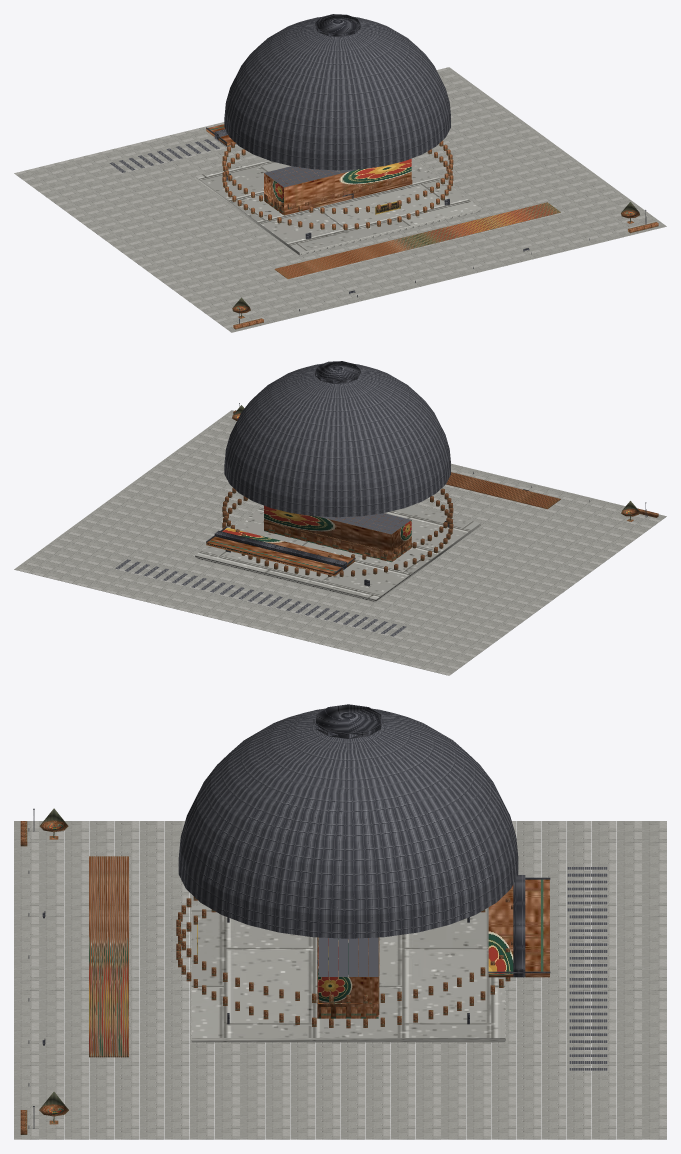
The picture shows the model from 3 angles, top to bottom: view 1: azimuth 30°, elevation 25°; view 2: azimuth 150°, elevation 25°; view 3: azimuth 270°, elevation 25°; orthographic projection. The views are drawn at different scales.
Visible parts, largest first — view 1: 11710_01_05540_013_01__plinth_ground_base, 11710_01_05540_013_03__roof_deck_structure, 11710_01_05540_013_02__mass_body_facade, 11710_01_05540_013_05__window_sash_glass, 11710_01_05540_013_03__roof_metal_ornament, 11710_01_05540_013_06__landscape_greenery; view 2: 11710_01_05540_013_01__plinth_ground_base, 11710_01_05540_013_03__roof_deck_structure, 11710_01_05540_013_02__mass_body_facade, 11710_01_05540_013_03__roof_metal_ornament, 11710_01_05540_013_05__window_sash_glass; view 3: 11710_01_05540_013_01__plinth_ground_base, 11710_01_05540_013_03__roof_deck_structure, 11710_01_05540_013_02__mass_body_facade, 11710_01_05540_013_03__roof_metal_ornament, 11710_01_05540_013_05__window_sash_glass, 11710_01_05540_013_06__landscape_greenery.
Boxes of the visible parts, x1=… form: 11710_01_05540_013_01__plinth_ground_base: x1=14, y1=67, x2=666, y2=332; 11710_01_05540_013_03__roof_deck_structure: x1=109, y1=16, x2=450, y2=187; 11710_01_05540_013_02__mass_body_facade: x1=206, y1=124, x2=560, y2=278; 11710_01_05540_013_05__window_sash_glass: x1=222, y1=140, x2=453, y2=230; 11710_01_05540_013_03__roof_metal_ornament: x1=206, y1=14, x2=360, y2=143; 11710_01_05540_013_06__landscape_greenery: x1=232, y1=202, x2=658, y2=329; 11710_01_05540_013_01__plinth_ground_base: x1=14, y1=410, x2=666, y2=675; 11710_01_05540_013_03__roof_deck_structure: x1=115, y1=363, x2=450, y2=636; 11710_01_05540_013_02__mass_body_facade: x1=206, y1=472, x2=560, y2=576; 11710_01_05540_013_03__roof_metal_ornament: x1=206, y1=361, x2=360, y2=573; 11710_01_05540_013_05__window_sash_glass: x1=222, y1=488, x2=453, y2=576; 11710_01_05540_013_01__plinth_ground_base: x1=14, y1=821, x2=666, y2=1139; 11710_01_05540_013_03__roof_deck_structure: x1=178, y1=708, x2=607, y2=1070; 11710_01_05540_013_02__mass_body_facade: x1=89, y1=856, x2=549, y2=1057; 11710_01_05540_013_03__roof_metal_ornament: x1=313, y1=704, x2=550, y2=977; 11710_01_05540_013_05__window_sash_glass: x1=176, y1=896, x2=513, y2=1028; 11710_01_05540_013_06__landscape_greenery: x1=20, y1=808, x2=68, y2=1134.
Bounding box in the file's own units: 150 × 58.33 × 130.
7 materials, 7 textured.
